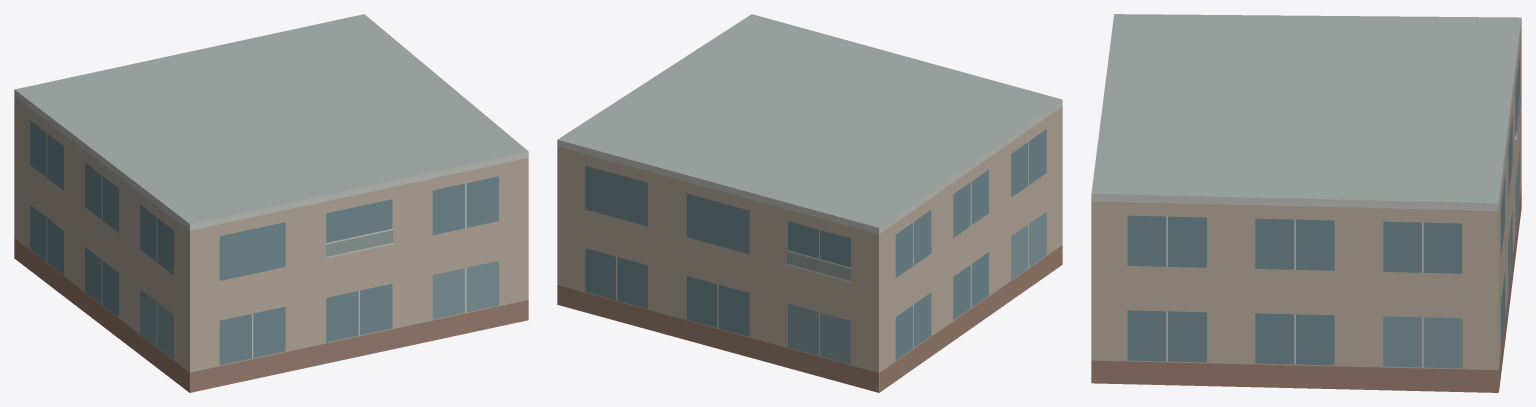
File: survey-upis-32894384.glb
3 renders of one model, left to right at view 1: azimuth 30°, elevation 25°; view 2: azimuth 150°, elevation 25°; view 3: azimuth 270°, elevation 25°, orthographic. The views are drawn at different scales.
Visible parts, largest first — view 1: survey-upis-32894384.tmp; view 2: survey-upis-32894384.tmp; view 3: survey-upis-32894384.tmp.
Boxes of the visible parts, <box> form: survey-upis-32894384.tmp: <box>14,14,528,392</box>; survey-upis-32894384.tmp: <box>557,14,1062,392</box>; survey-upis-32894384.tmp: <box>1091,14,1521,392</box>.
Size of the model in its own units: 13.09 by 6.1 by 12.56.
